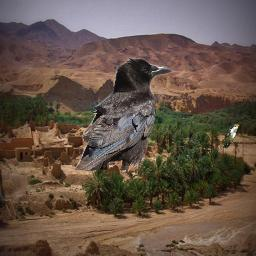Crow: (74, 57, 173, 170)
Cuckoo: (223, 124, 240, 148)
